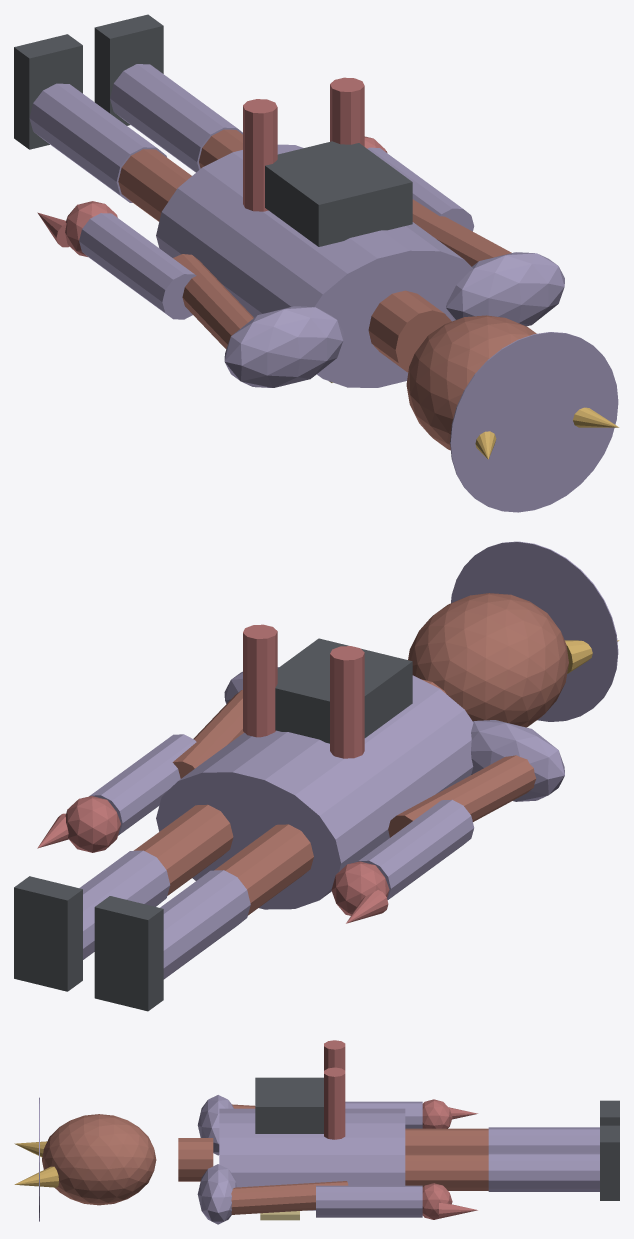
File: SWN-044_rixx_varr.glb
3 views of the same model, one above another, from view 1: azimuth 30°, elevation 25°; view 2: azimuth 150°, elevation 25°; view 3: azimuth 270°, elevation 25° (orthographic). The views are drawn at different scales.
Parts seen in each view (by area): view 1: body_spine, rank_halo_ring, back_thruster_pack, head, shoulder_plate_-1, greave_-1, greave_1, shoulder_plate_1, forearm_gauntlet_-1, boot_-1, boot_1, neck (+8 smaller); view 2: body_spine, head, rank_halo_ring, back_thruster_pack, boot_-1, boot_1, greave_-1, forearm_gauntlet_-1, thigh_-1, thigh_1, forearm_gauntlet_1, upper_arm_-1 (+8 smaller); view 3: body_spine, head, greave_1, back_thruster_pack, forearm_gauntlet_1, thigh_1, greave_-1, upper_arm_1, thigh_-1, shoulder_plate_1, aether_thruster_1, boot_1 (+11 smaller).
Boxes of the visible parts, x1,y1,x2,y2 form: body_spine: (156,144,473,387); rank_halo_ring: (450,332,618,512); back_thruster_pack: (265,141,412,246); head: (406,315,536,450); shoulder_plate_-1: (224,306,343,387); greave_-1: (29,83,166,202); greave_1: (110,64,242,172); shoulder_plate_1: (446,252,564,326); forearm_gauntlet_-1: (79,213,196,319); boot_-1: (14,34,82,149); boot_1: (94,14,163,125); neck: (368,290,451,372); body_spine: (156,675,473,909); head: (408,593,568,727); rank_halo_ring: (451,541,618,721); back_thruster_pack: (275,638,412,743); boot_-1: (94,896,163,1011); boot_1: (14,876,82,991); greave_-1: (160,870,250,979); forearm_gauntlet_-1: (357,799,474,899); thigh_-1: (214,824,313,915); thigh_1: (133,804,233,895); forearm_gauntlet_1: (89,734,196,835); upper_arm_-1: (388,755,536,837); body_spine: (219,1108,405,1210); head: (42,1114,156,1205); greave_1: (488,1152,599,1191); back_thruster_pack: (255,1077,323,1133); forearm_gauntlet_1: (316,1185,422,1217); thigh_1: (405,1153,488,1190); greave_-1: (488,1127,599,1152); upper_arm_1: (231,1181,348,1214); thigh_-1: (405,1128,488,1153); shoulder_plate_1: (197,1164,236,1224); aether_thruster_1: (324,1067,345,1139); boot_1: (600,1125,619,1200).
Bounding box in the file's own units: 1.02 × 0.7 × 2.44.
